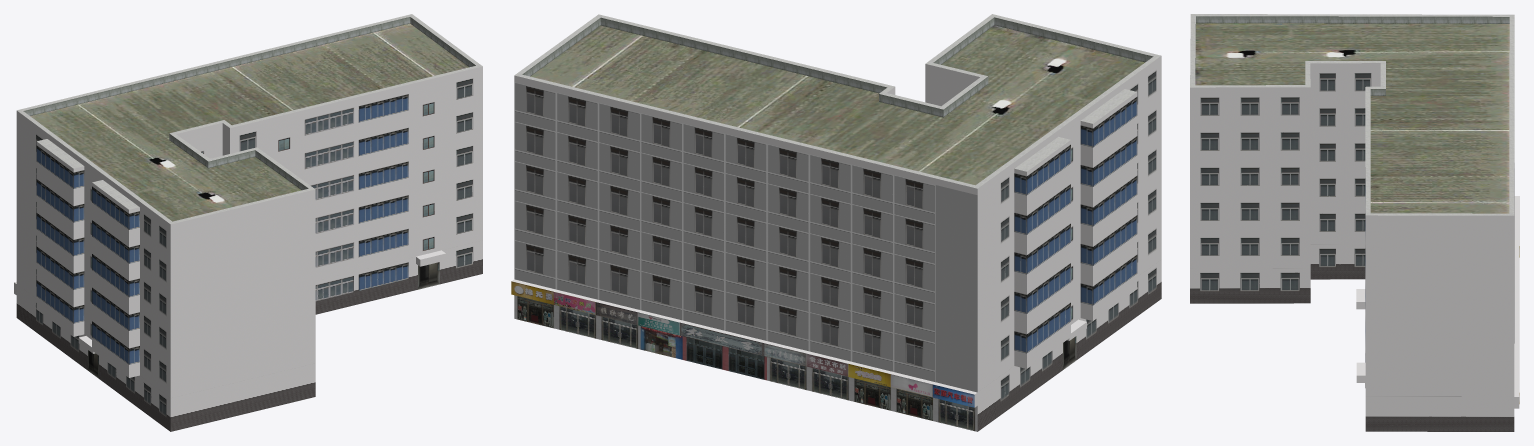
The picture shows the model from 3 angles, left to right: view 1: azimuth 30°, elevation 25°; view 2: azimuth 150°, elevation 25°; view 3: azimuth 270°, elevation 25°; orthographic projection. The views are drawn at different scales.
Visible parts, largest first — view 1: jz24; view 2: jz24; view 3: jz24.
Part boxes in pixels (x1,y1,x2,y2): jz24: (14,14,482,431); jz24: (511,14,1161,431); jz24: (1190,14,1519,431).
Size of the model in its own units: 3799 by 1850 by 2558.
30 materials, 30 textured.
